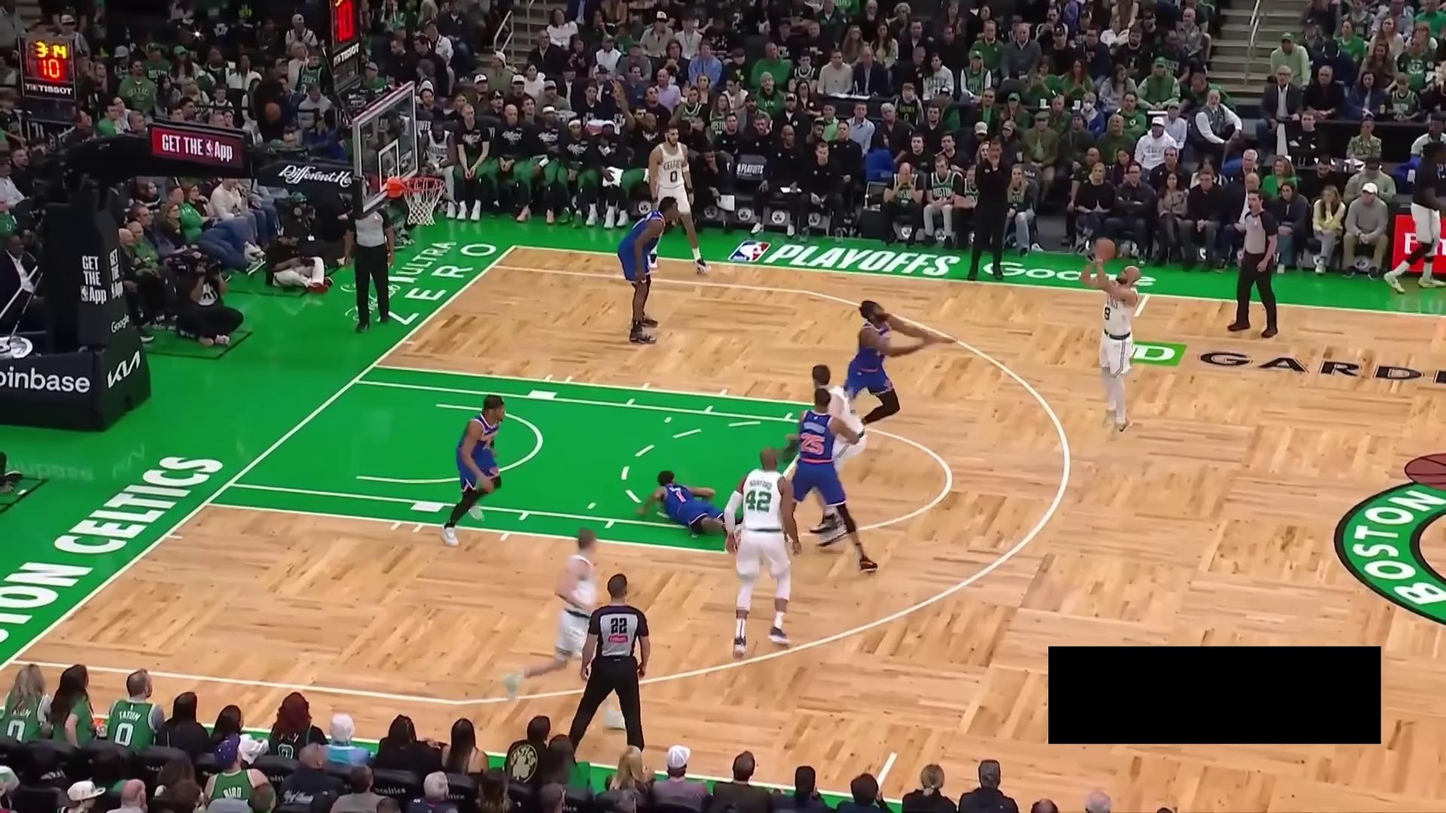ball: (1092, 237, 1120, 262)
number: (798, 429, 827, 457), (742, 488, 772, 512), (674, 491, 688, 503), (669, 169, 679, 184), (1103, 306, 1111, 321)
player: (503, 524, 626, 731), (721, 444, 807, 662), (838, 296, 961, 431), (791, 386, 878, 575), (800, 359, 870, 548), (435, 390, 510, 548), (643, 125, 716, 276), (612, 196, 684, 345), (632, 467, 749, 545)
player-jump-shot: (1078, 233, 1147, 440)
referee: (568, 572, 657, 768), (1223, 189, 1281, 338), (341, 203, 397, 335)
rim: (403, 174, 445, 195)
